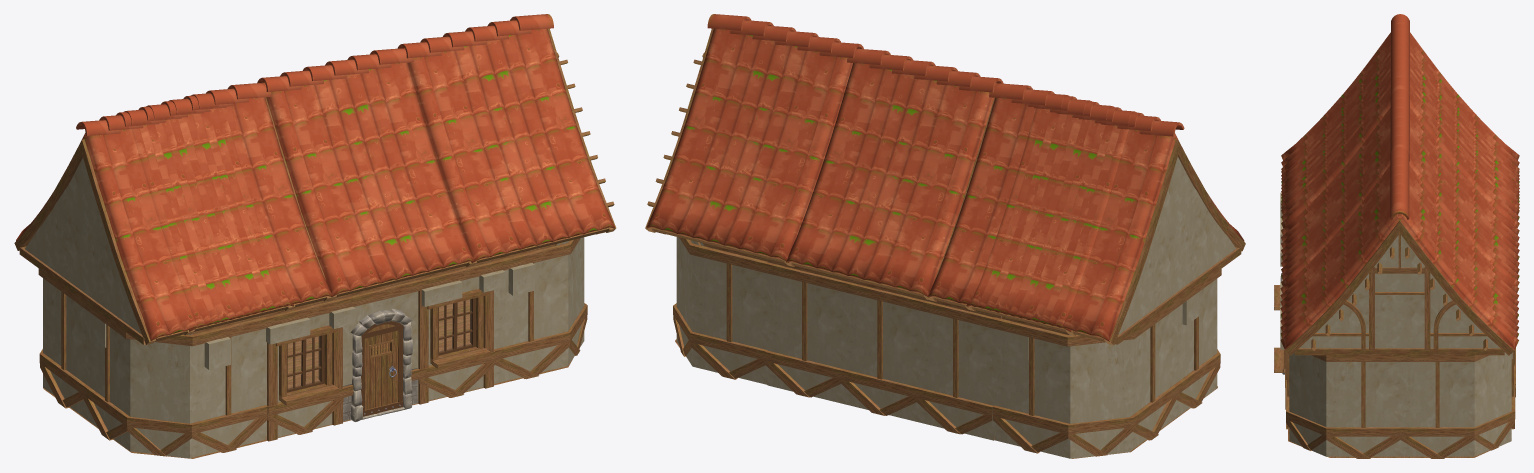
The model's file is Building1Animation_Modular.glb.
3 views of the same model, side by side, from view 1: azimuth 30°, elevation 25°; view 2: azimuth 150°, elevation 25°; view 3: azimuth 270°, elevation 25° (orthographic). The views are drawn at different scales.
Parts seen in each view (by area): view 1: BA_Roof_01, BA_Wall_05, BA_Trim_03, BA_Wall_03, BA_Trim_01, BA_Wall_02, BA_Floor_01, BA_Trim_02; view 2: BA_Roof_01, BA_Wall_05, BA_Trim_03, BA_Wall_03, BA_Trim_01, BA_Floor_01; view 3: BA_Roof_01, BA_Wall_05, BA_Wall_03, BA_Trim_01, BA_Trim_03, BA_Floor_01.
Part boxes in pixels (box(x1,y1,x2,y2)): BA_Roof_01: box(16, 14, 614, 340); BA_Wall_05: box(43, 237, 584, 458); BA_Trim_03: box(38, 238, 587, 456); BA_Wall_03: box(25, 158, 141, 334); BA_Trim_01: box(14, 28, 616, 344); BA_Wall_02: box(361, 321, 403, 416); BA_Floor_01: box(43, 299, 577, 458); BA_Trim_02: box(343, 308, 417, 421); BA_Roof_01: box(646, 14, 1244, 341); BA_Wall_05: box(676, 237, 1217, 458); BA_Trim_03: box(673, 237, 1221, 456); BA_Wall_03: box(1118, 157, 1236, 334); BA_Trim_01: box(645, 28, 1245, 344); BA_Floor_01: box(675, 317, 1217, 458); BA_Roof_01: box(1280, 14, 1519, 349); BA_Wall_05: box(1280, 192, 1512, 456); BA_Wall_03: box(1299, 235, 1499, 348); BA_Trim_01: box(1285, 220, 1514, 355); BA_Trim_03: box(1274, 285, 1515, 458); BA_Floor_01: box(1286, 391, 1515, 458).
Bounding box in the file's own units: 12.72 × 7.56 × 6.63.
8 materials, 7 textured.
